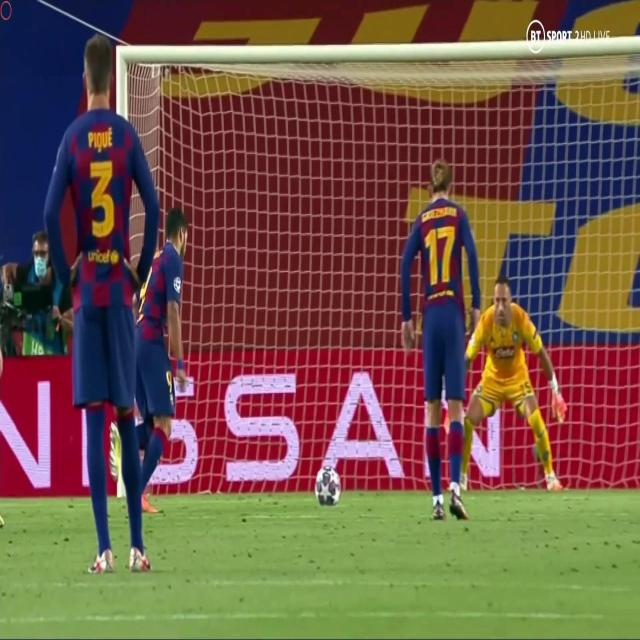ball: (314, 457, 346, 510)
player: (34, 13, 170, 572), (397, 138, 487, 510), (448, 258, 571, 494), (122, 192, 203, 534)
